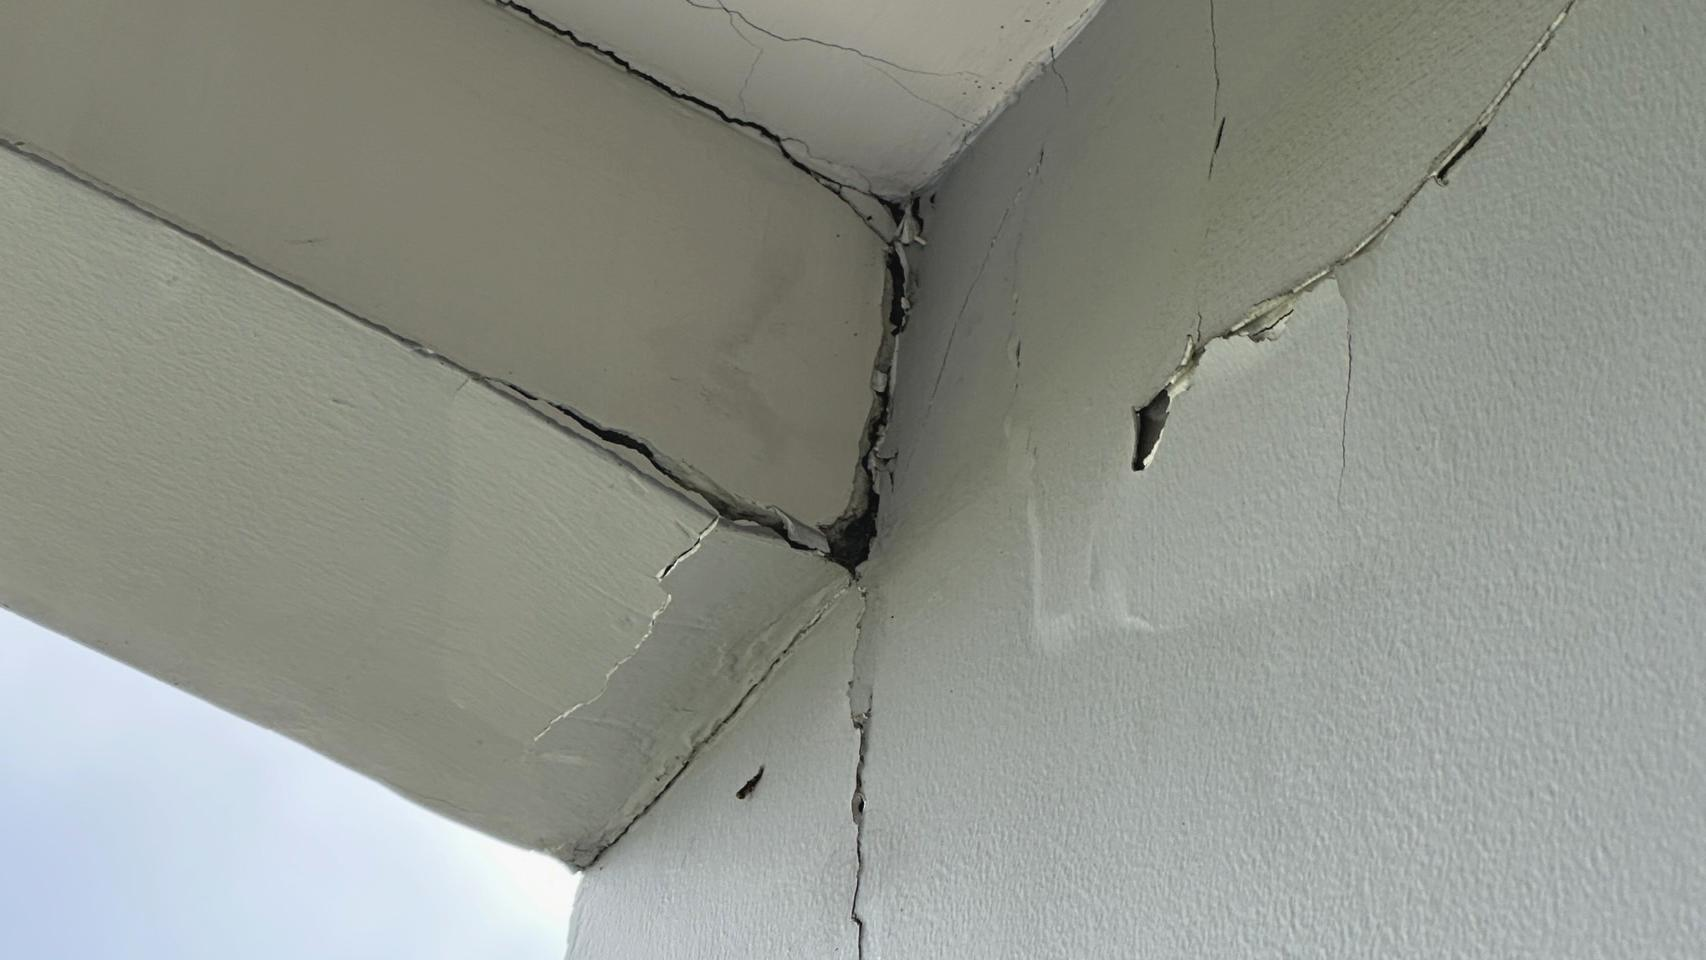High: (273, 1, 1639, 960)
